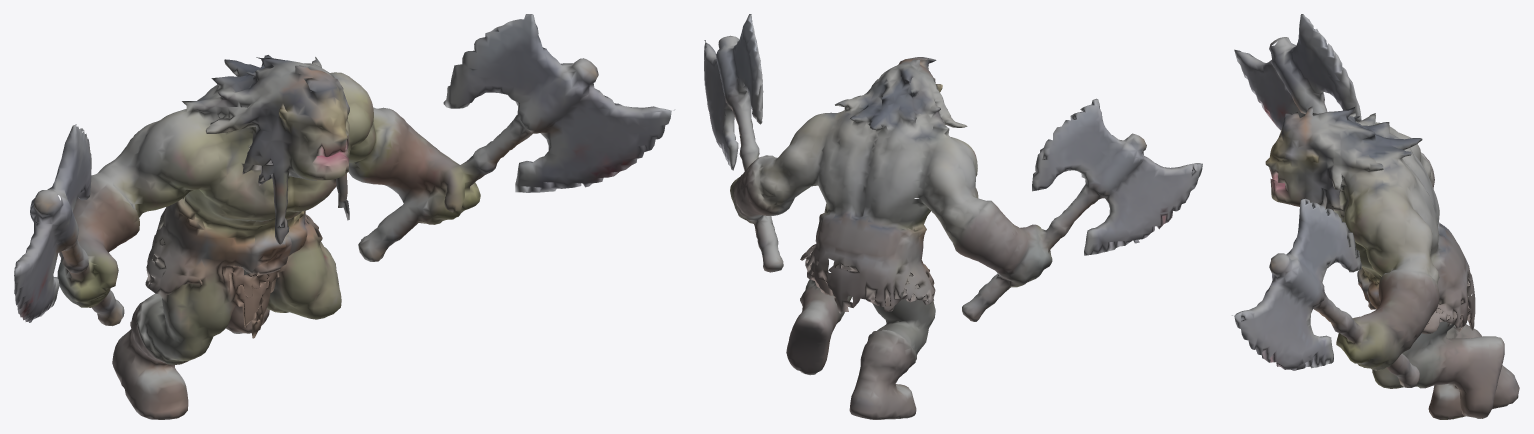
Rendered from raider.glb.
The picture shows the model from 3 angles, left to right: view 1: azimuth 30°, elevation 25°; view 2: azimuth 150°, elevation 25°; view 3: azimuth 270°, elevation 25°; orthographic projection. The views are drawn at different scales.
Bounding box in the file's own units: 0.9958 × 0.5716 × 0.4541.
